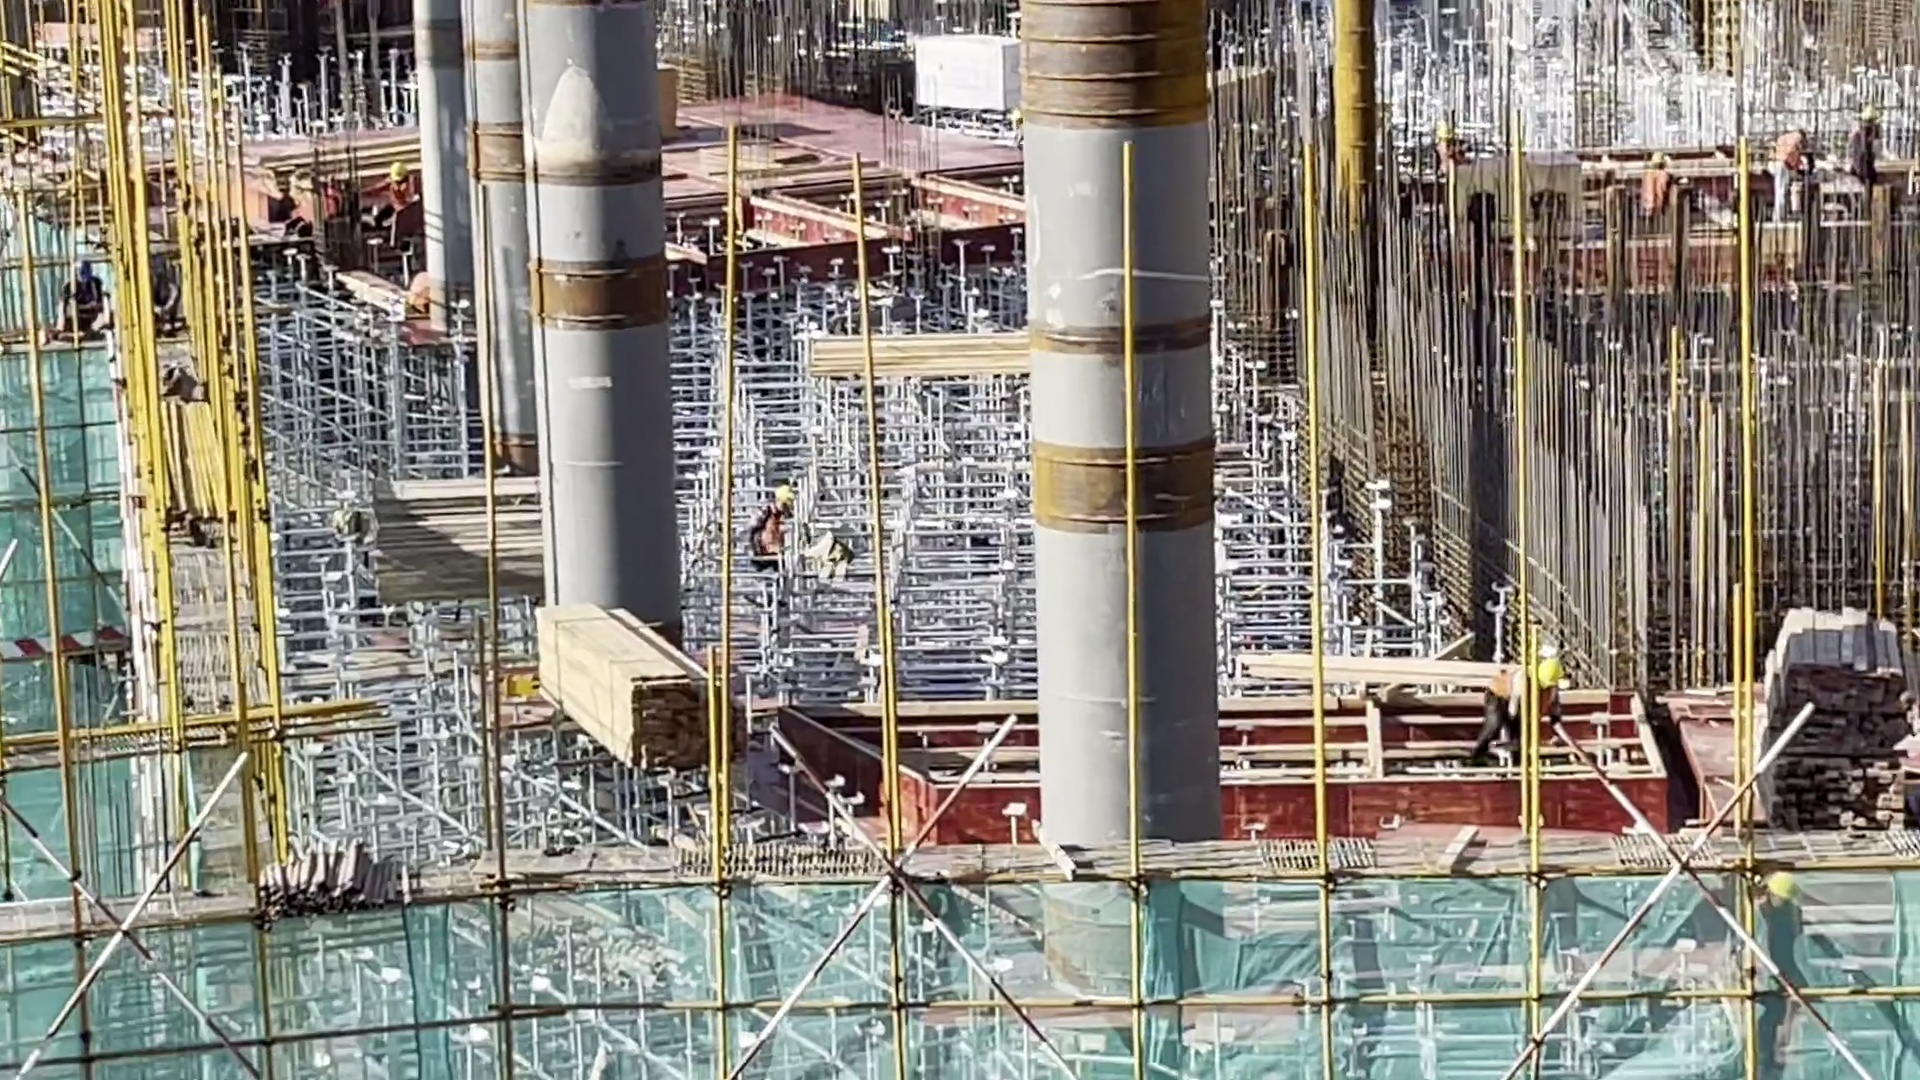person: (1485, 660, 1573, 758), (1522, 656, 1566, 701)
wood: (1738, 580, 1920, 847)
